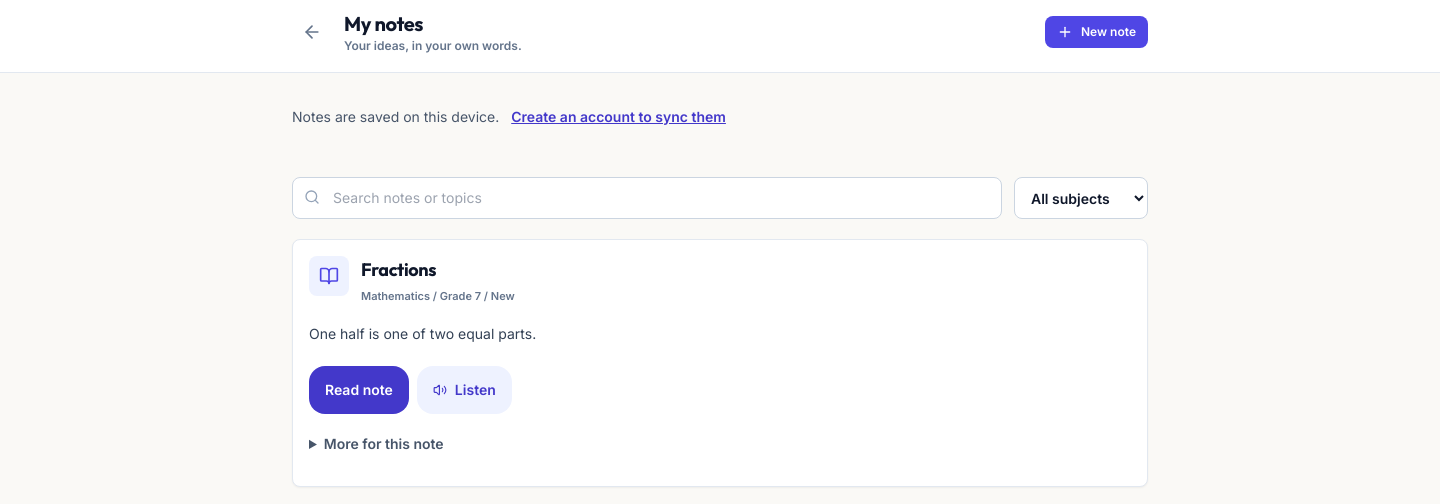
Test: Learner notebook › reads a saved note in place without entering an AI answer screen
Click the button "Read note".
click(359, 390)  # box top-left (309, 366), bottom-right (409, 414)
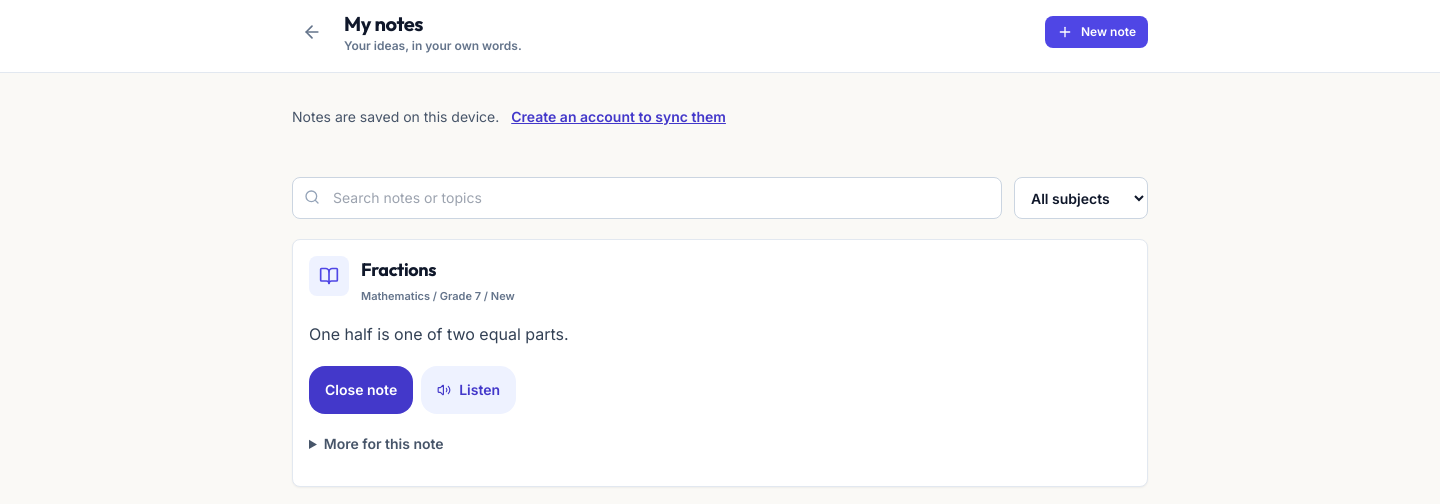
Expected: the button "Close note" is expanded, top-left (309, 366), bottom-right (413, 414)
